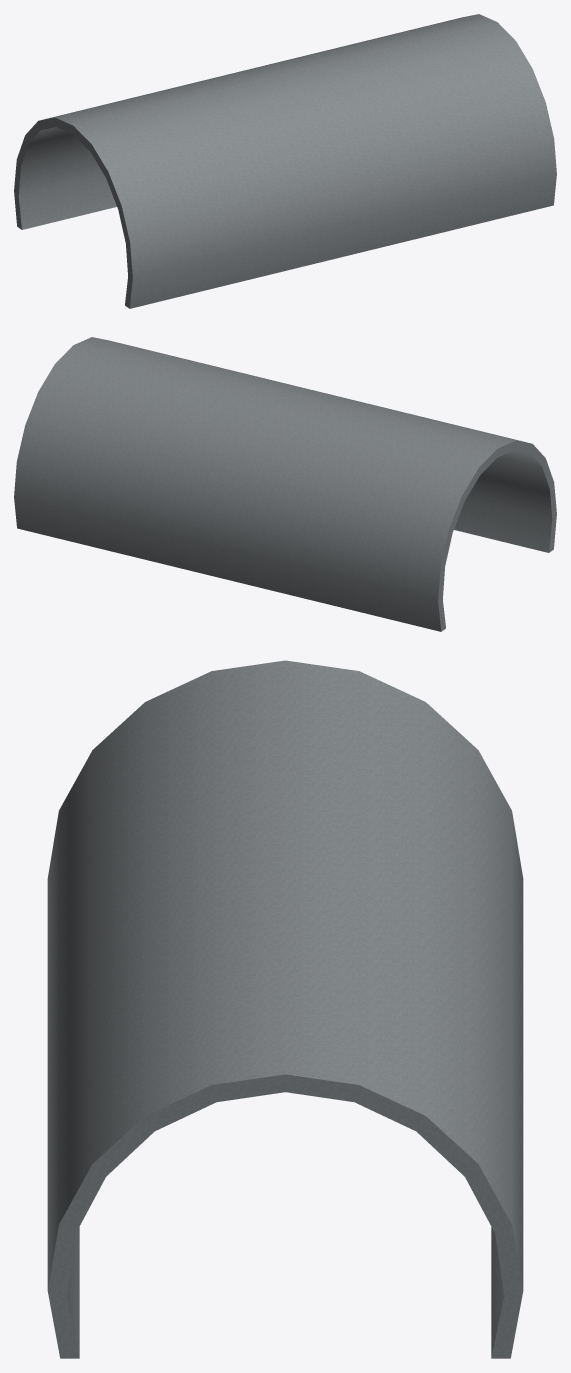
File: TunnelWall20m.dae
3 views of the same model, one above another, from view 1: azimuth 30°, elevation 25°; view 2: azimuth 150°, elevation 25°; view 3: azimuth 270°, elevation 25° (orthographic). The views are drawn at different scales.
Visible parts, largest first — view 1: SketchUp; view 2: SketchUp; view 3: SketchUp.
Boxes of the visible parts, box(x1,y1,x2,y2) form: SketchUp: box(14, 14, 556, 308); SketchUp: box(14, 337, 556, 631); SketchUp: box(47, 660, 523, 1358).
Size of the model in its own units: 787 by 382 by 252.
Materials: 2 (1 with a texture image).
